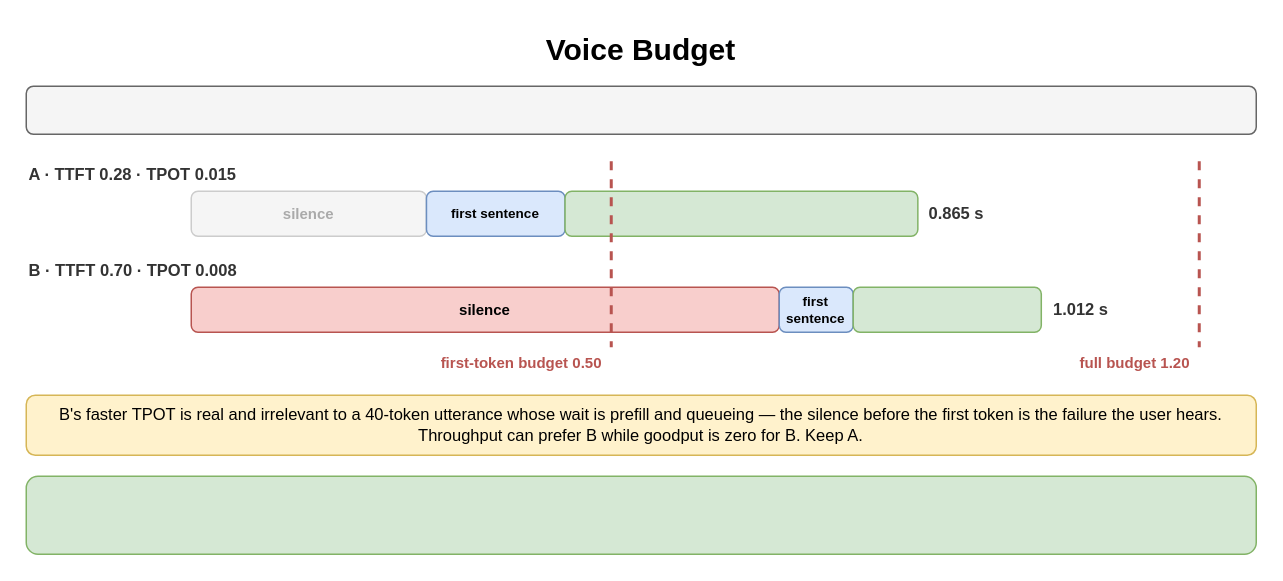
The diagram is 1283 pixels wide and 581 high, and some of its shapes have lost their labels. Each missing label, with the centre of its shape:
Answer: A 0.280 0.445 0.865 True B 0.700 0.788 1.012 False: pixel 640 514
Phone voice assistant: first token by 0.50 s, the whole 40-token reply by 1.20 s: pixel 640 109
